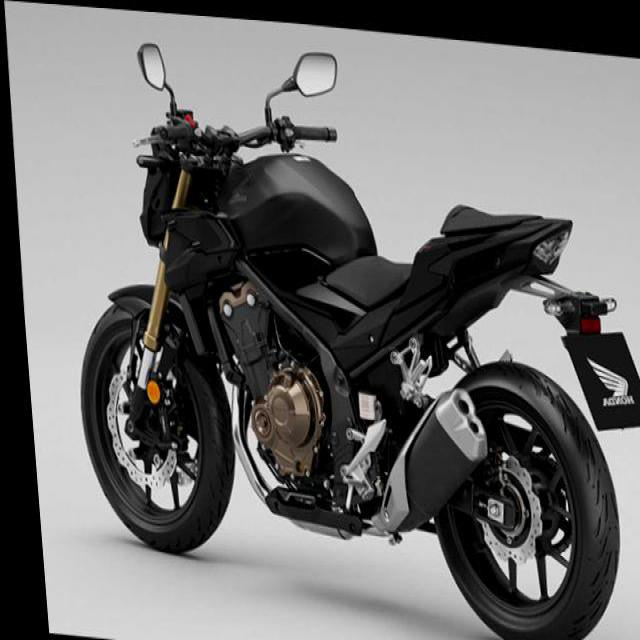CB500F: (46, 29, 639, 639)
